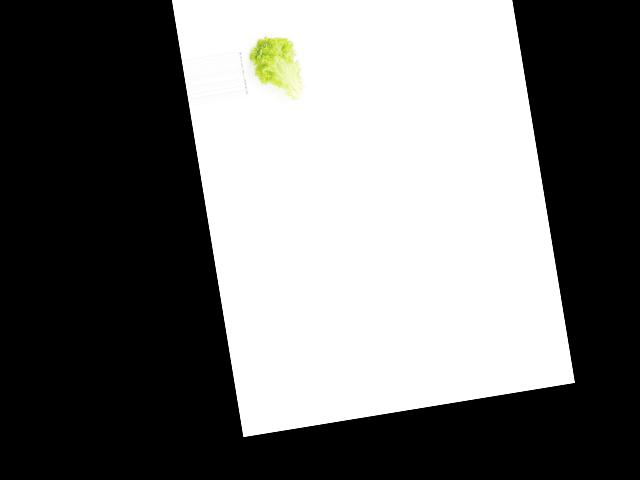lettuce: (246, 28, 308, 105)
